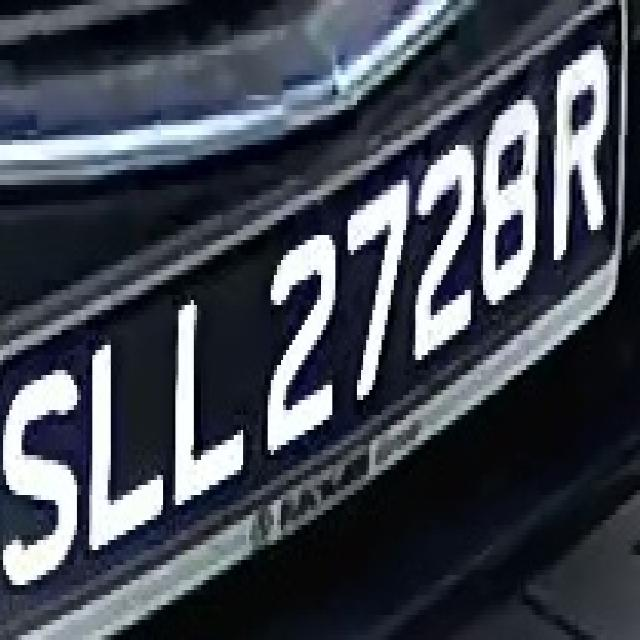2: (252, 240, 351, 455), (409, 150, 486, 370)
7: (338, 180, 428, 435)
8: (471, 95, 538, 315)
L: (166, 260, 246, 520), (95, 330, 157, 545)
R: (542, 50, 612, 275)
S: (3, 355, 95, 605)
